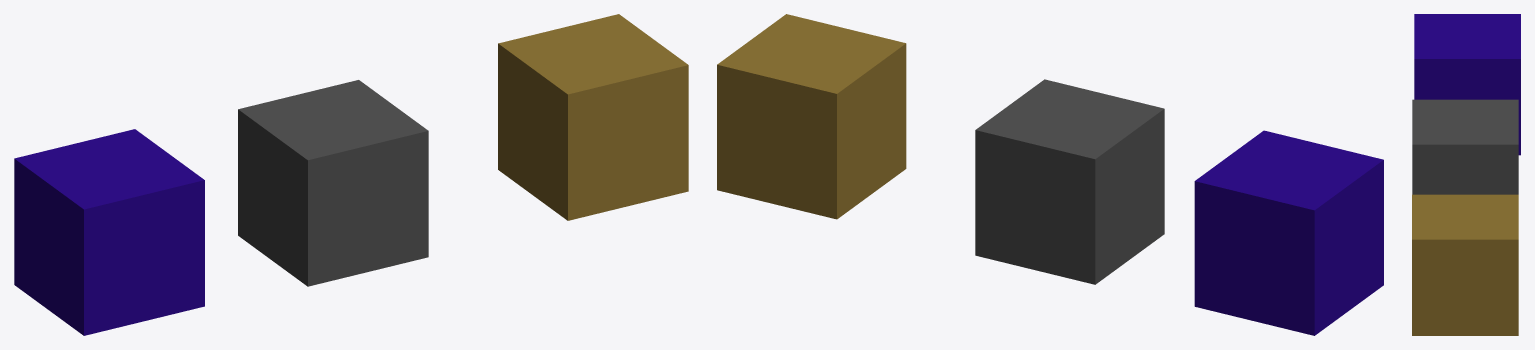
Rendered from cubos.fbx.
3 views of the same model, side by side, from view 1: azimuth 30°, elevation 25°; view 2: azimuth 150°, elevation 25°; view 3: azimuth 270°, elevation 25° (orthographic). The views are drawn at different scales.
Visible parts, largest first — view 1: Cube, Cube.001, Cube.002; view 2: Cube, Cube.001, Cube.002; view 3: Cube.002, Cube, Cube.001.
Part boxes in pixels (bbox=[...]): Cube: bbox=[238, 80, 428, 286]; Cube.001: bbox=[14, 129, 204, 335]; Cube.002: bbox=[498, 14, 688, 220]; Cube: bbox=[975, 79, 1164, 284]; Cube.001: bbox=[1194, 130, 1383, 335]; Cube.002: bbox=[717, 14, 906, 219]; Cube.002: bbox=[1412, 194, 1518, 335]; Cube: bbox=[1412, 99, 1518, 194]; Cube.001: bbox=[1414, 14, 1520, 155].
Size of the model in its own units: 999 by 206 by 204.
